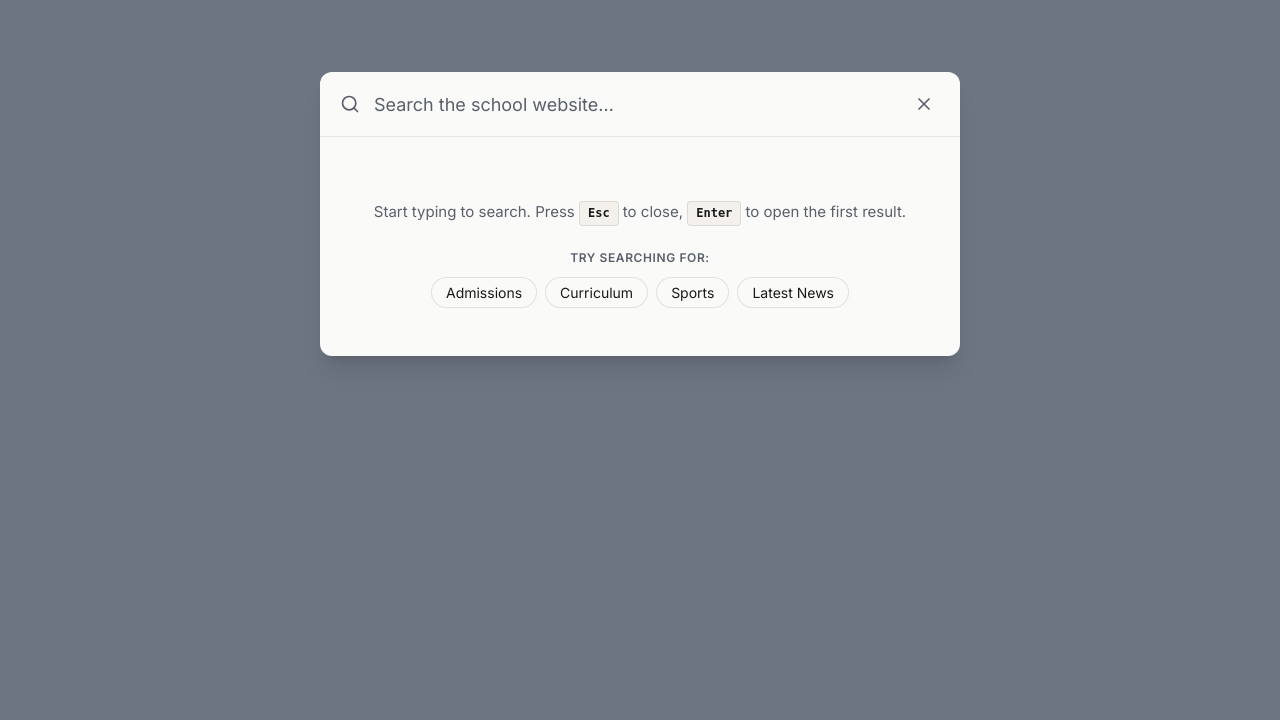
Scenario: SearchOverlay › clicking a suggestion chip populates the input
Click the button "Admissions".
click(484, 293)  # box [431,277,537,308]
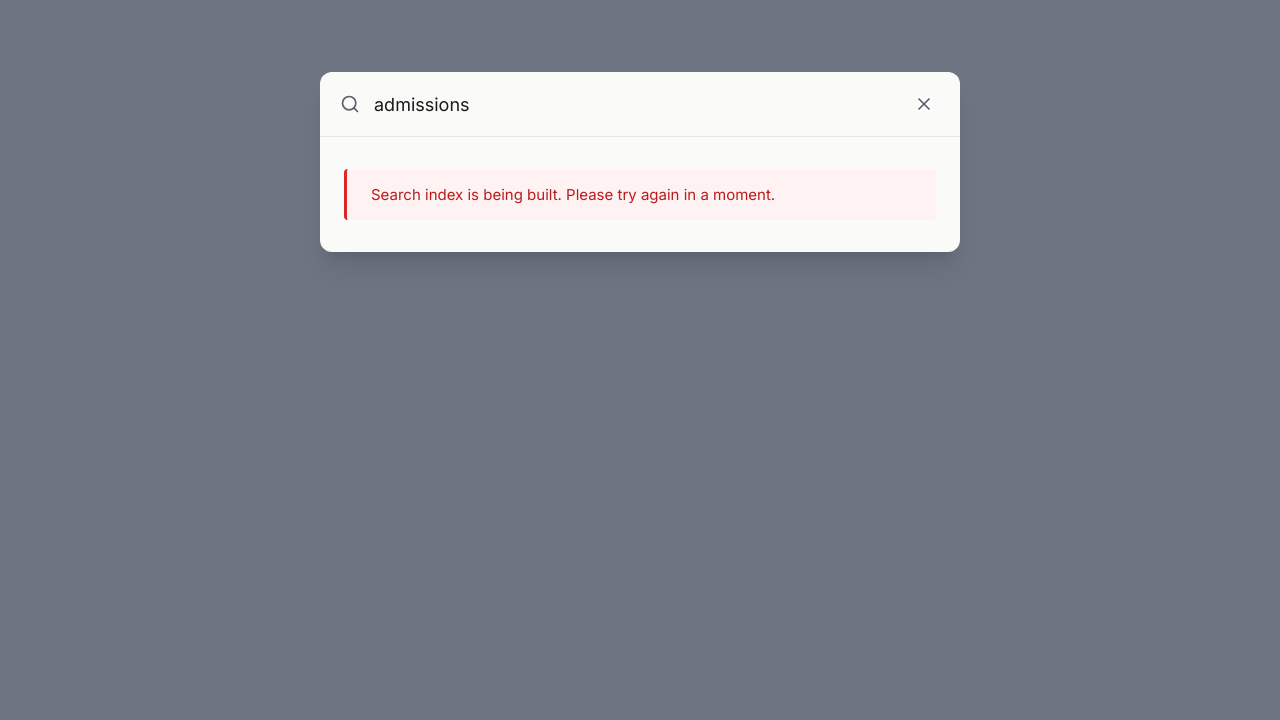
Expected: the field named "search query" holds "admissions", [372,90,896,118]
